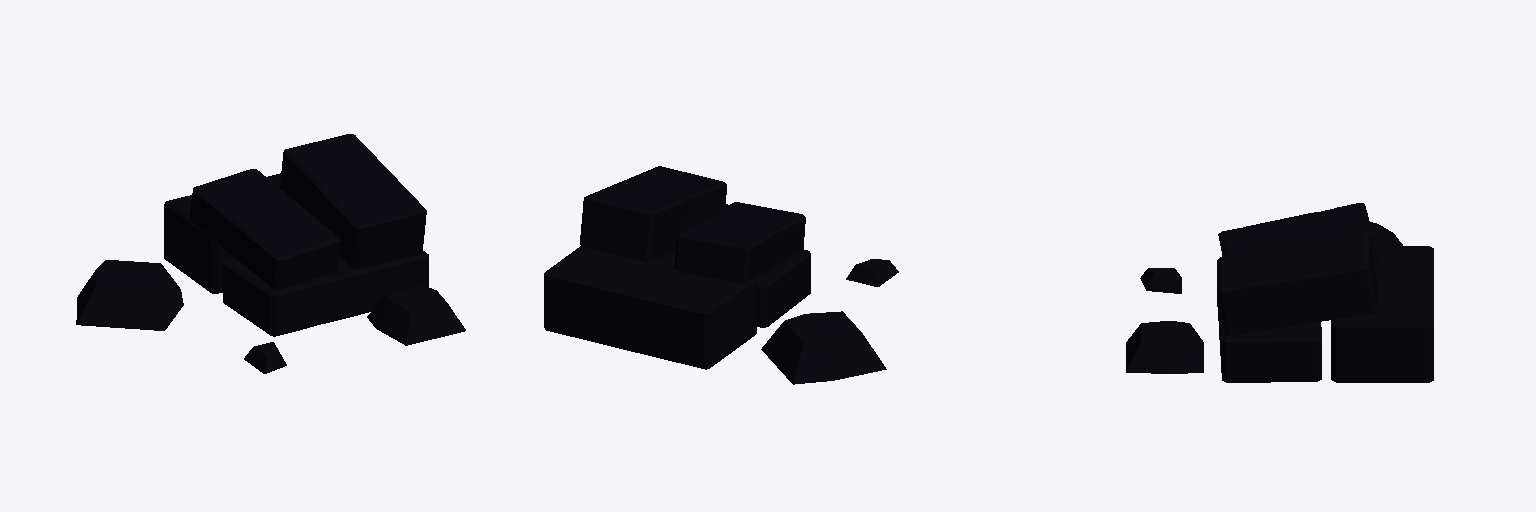
The model's file is Floor_BricksSeparate2.obj.
The picture shows the model from 3 angles: view 1: azimuth 30°, elevation 25°; view 2: azimuth 150°, elevation 25°; view 3: azimuth 270°, elevation 25°; orthographic projection.
Visible parts, largest first — view 1: Floor_BricksSeparate2_Cube.032; view 2: Floor_BricksSeparate2_Cube.032; view 3: Floor_BricksSeparate2_Cube.032.
Boxes of the visible parts, <box> form: Floor_BricksSeparate2_Cube.032: <box>76,134,465,373</box>; Floor_BricksSeparate2_Cube.032: <box>544,166,898,384</box>; Floor_BricksSeparate2_Cube.032: <box>1126,203,1433,382</box>.
Bounding box in the file's own units: 1.31 × 0.4797 × 1.17.